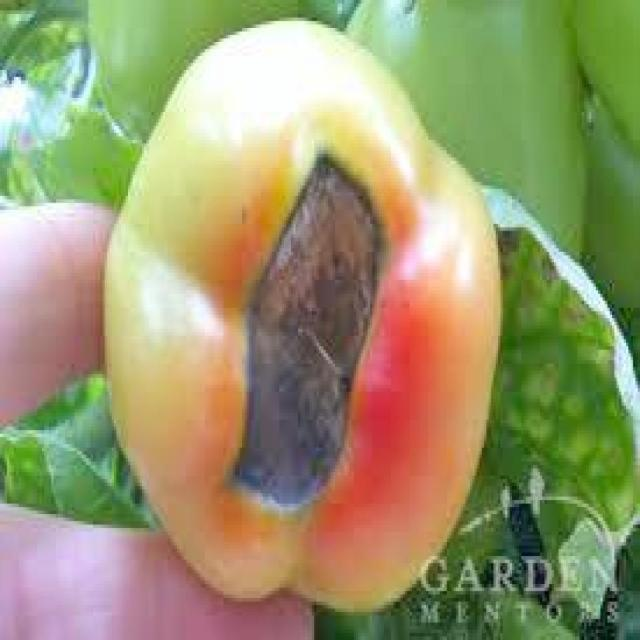Blossom End Rot Fruit: (150, 94, 254, 348)
